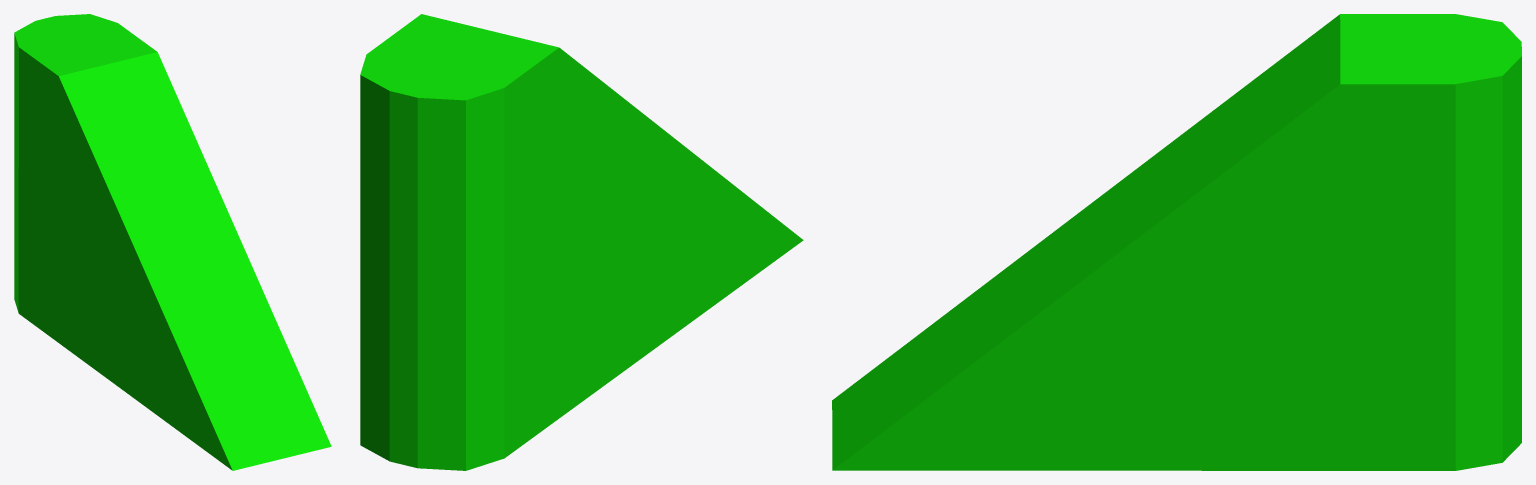
File: sm_collider_011.fbx
The picture shows the model from 3 angles, left to right: view 1: azimuth 30°, elevation 25°; view 2: azimuth 150°, elevation 25°; view 3: azimuth 270°, elevation 25°; orthographic projection. The views are drawn at different scales.
Visible parts, largest first — view 1: sm_collider.011; view 2: sm_collider.011; view 3: sm_collider.011.
Boxes of the visible parts, box(x1,y1,x2,y2) form: sm_collider.011: box(14, 14, 331, 470); sm_collider.011: box(360, 14, 803, 470); sm_collider.011: box(832, 14, 1521, 470).
Size of the model in its own units: 251 by 640 by 1034.
